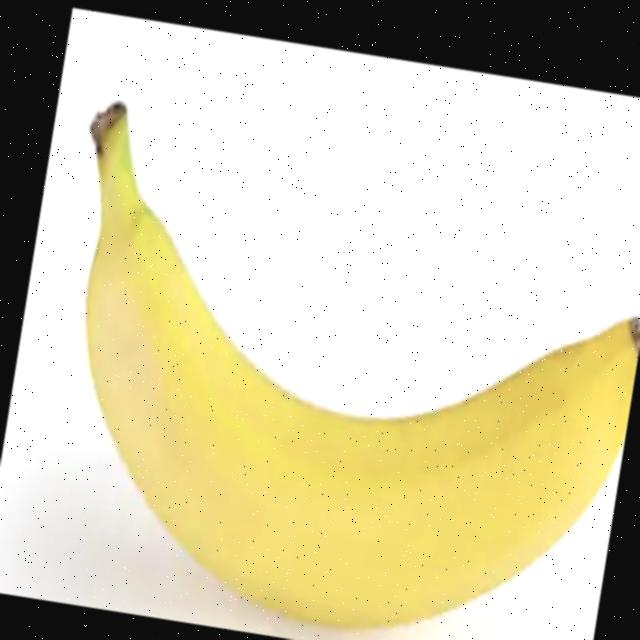Ripe: (9, 71, 640, 640)
